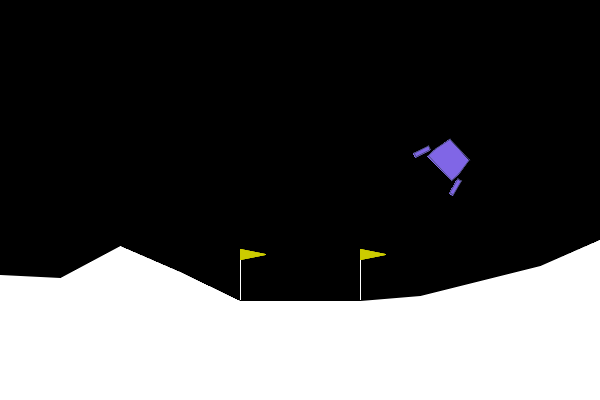lander: (411, 127, 481, 198)
